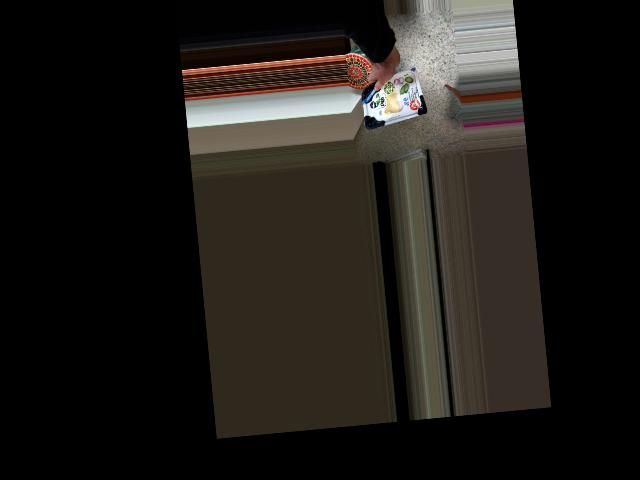cheese: (368, 58, 420, 112)
